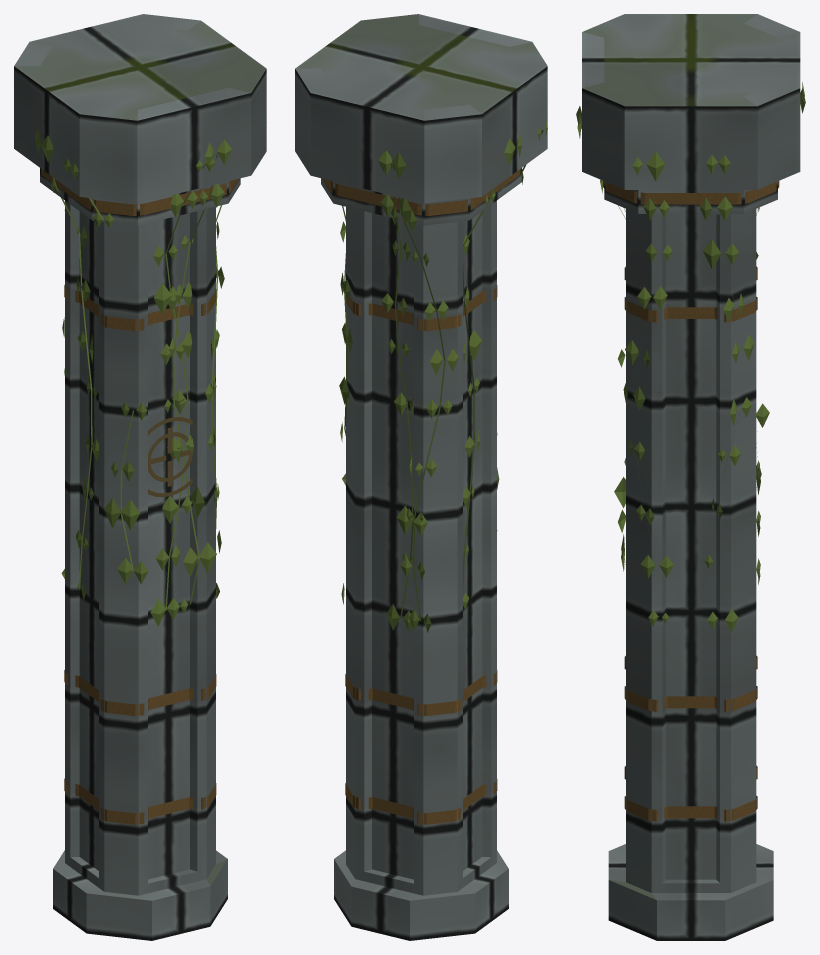
The model's file is Pillar.fbx.
The picture shows the model from 3 angles, left to right: view 1: azimuth 30°, elevation 25°; view 2: azimuth 150°, elevation 25°; view 3: azimuth 270°, elevation 25°; orthographic projection.
Visible parts, largest first — view 1: Pillar.002; view 2: Pillar.002; view 3: Pillar.002.
Part boxes in pixels (<box>): Pillar.002: <box>14,14,266,940</box>; Pillar.002: <box>295,14,547,940</box>; Pillar.002: <box>576,14,805,940</box>.
Bounding box in the file's own units: 7.41 × 30.34 × 7.47.
Materials: 4 (3 with a texture image).
